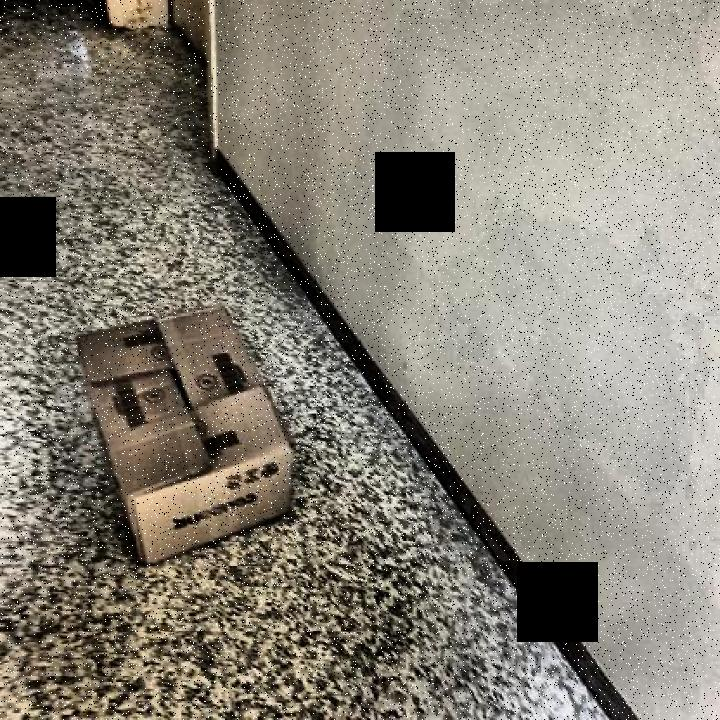box: (66, 285, 306, 567)
